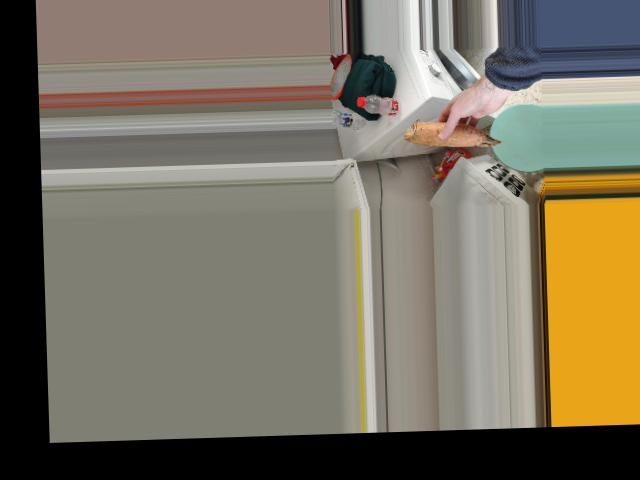sweet_potato: (407, 118, 500, 156)
